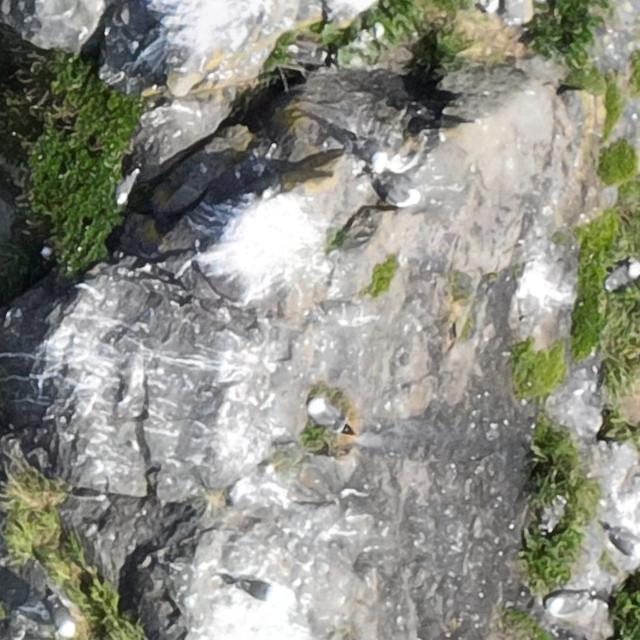umineko: (383, 176, 422, 206), (307, 401, 338, 426), (52, 604, 75, 637), (610, 532, 640, 557), (548, 593, 582, 613), (238, 581, 272, 598), (608, 264, 634, 286)
